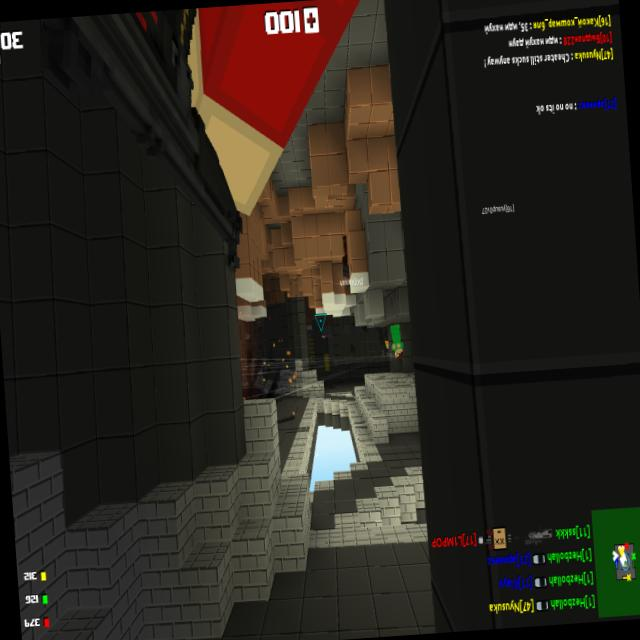enemy: (389, 322, 404, 360), (384, 340, 389, 350)
